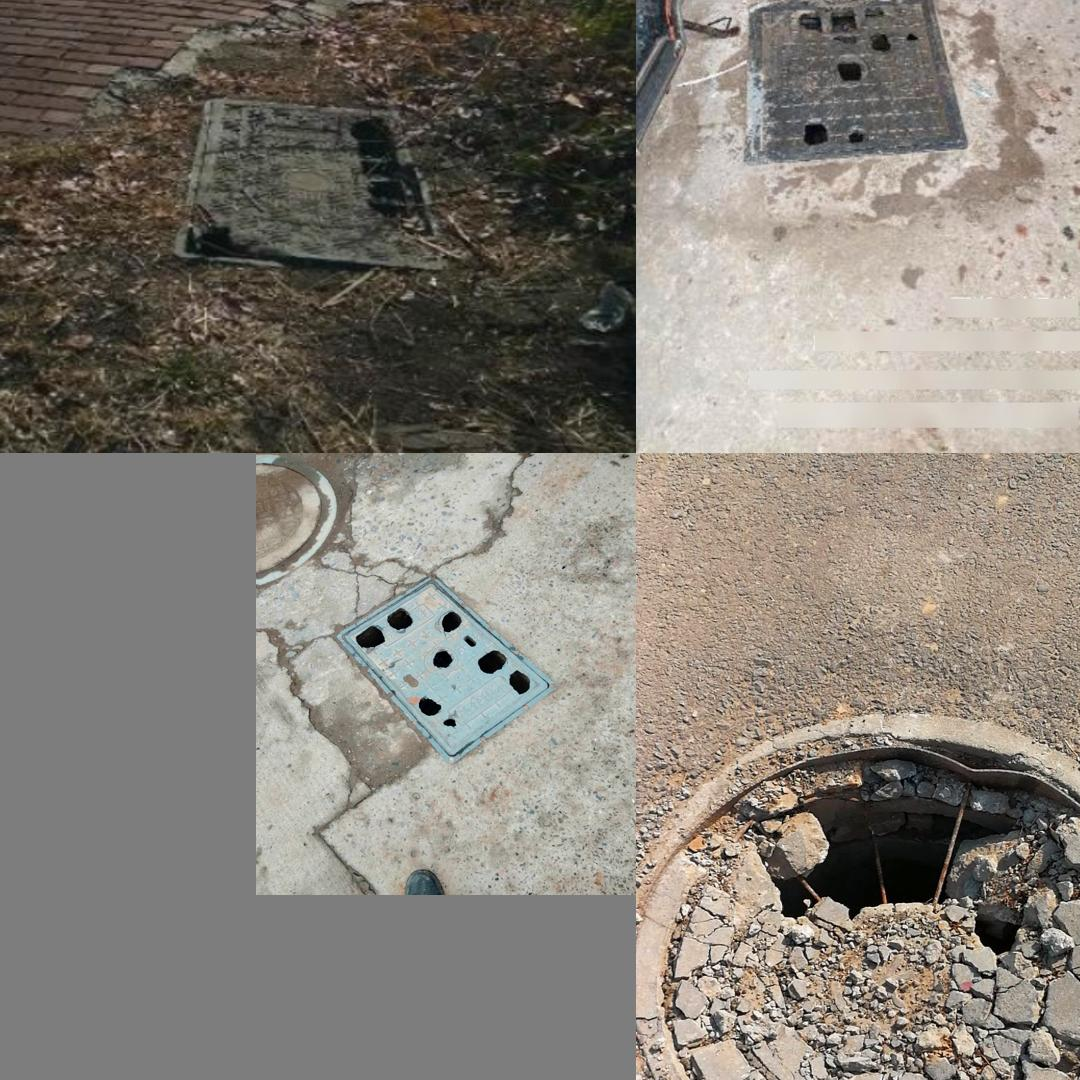broke: (637, 717, 1080, 1080), (171, 98, 445, 269), (334, 575, 556, 763), (740, 0, 968, 170)
